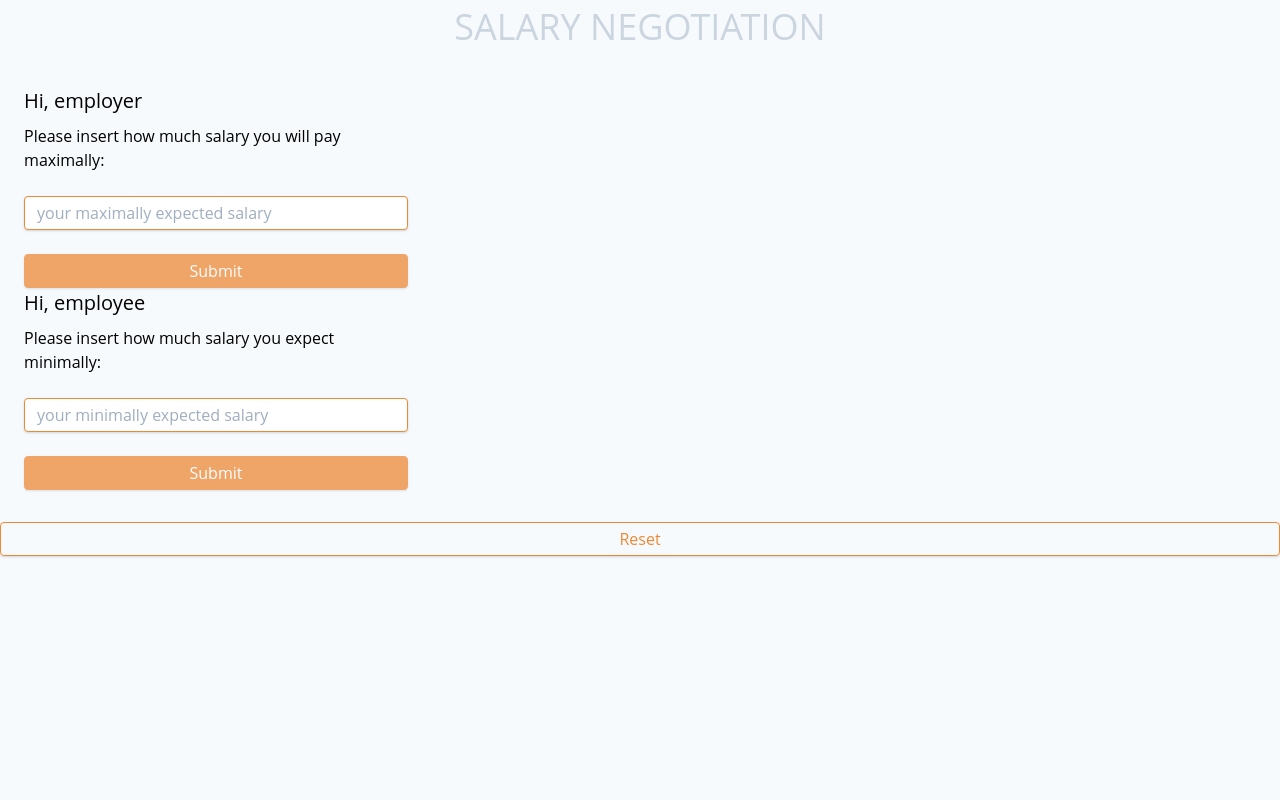
Scenario: SalaryNegotiation › Should show weather informations for london
The width and height of the screenshot is (1280, 800).
Type "900" into the number field with placeholder "your maximally expected salary" at point(216, 213), box 24,196 -> 408,230
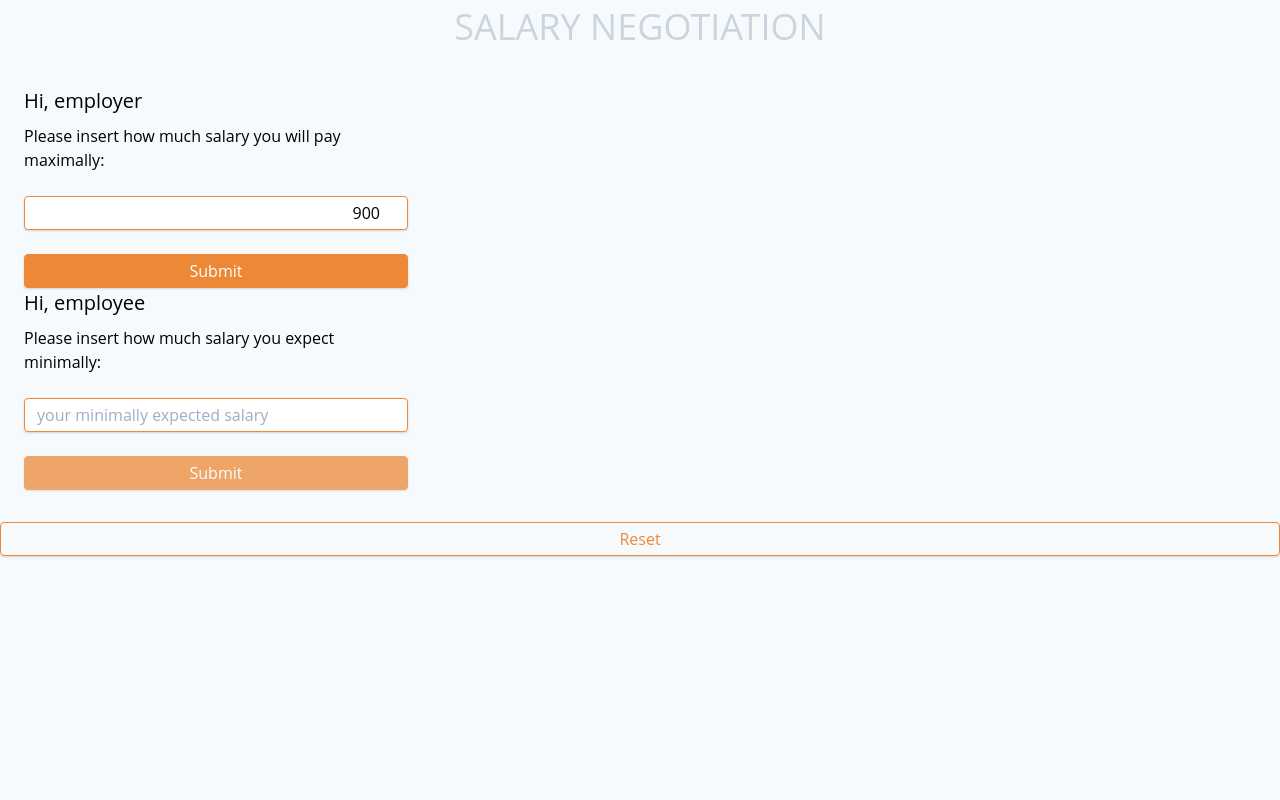
Click the button "Submit" below "Hi, employer" at point(216, 271), box 24,254 -> 408,288
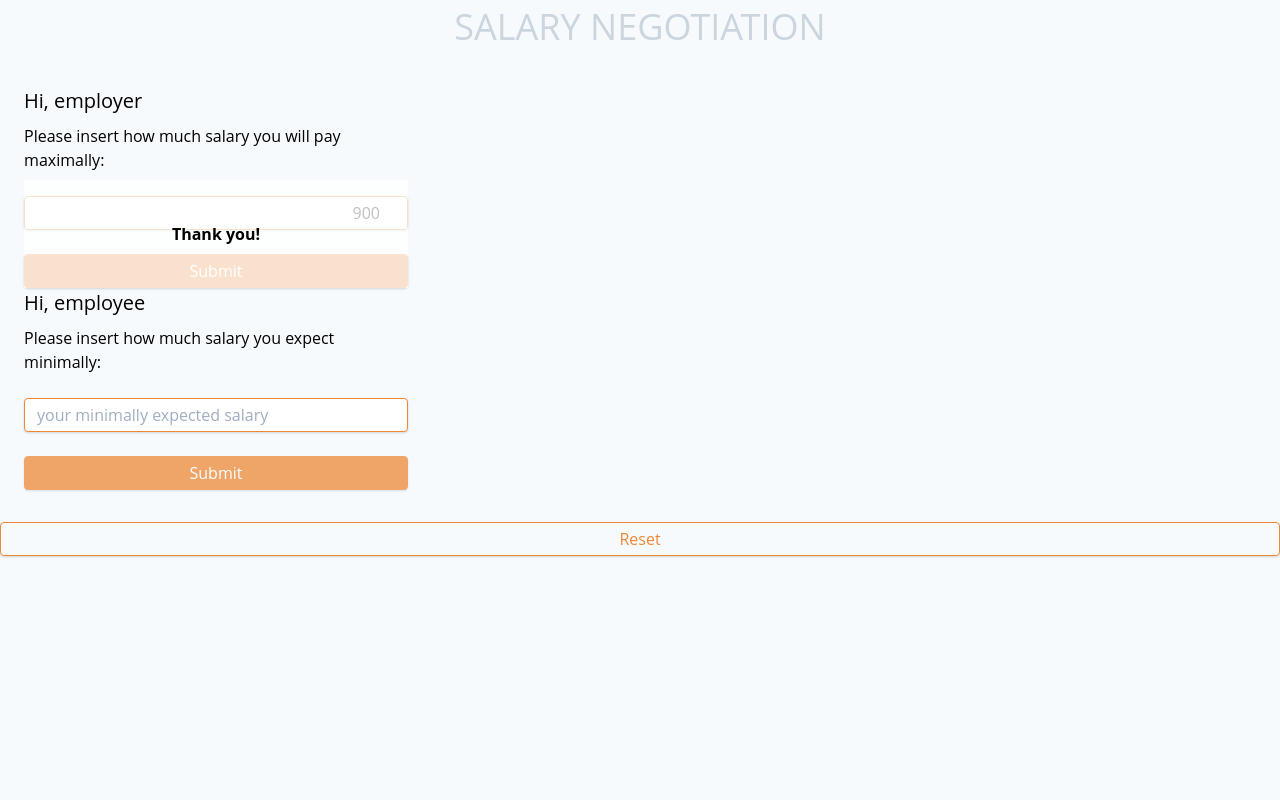
Type "910" into the number field with placeholder "your minimally expected salary" at point(216, 415), box 24,398 -> 408,432
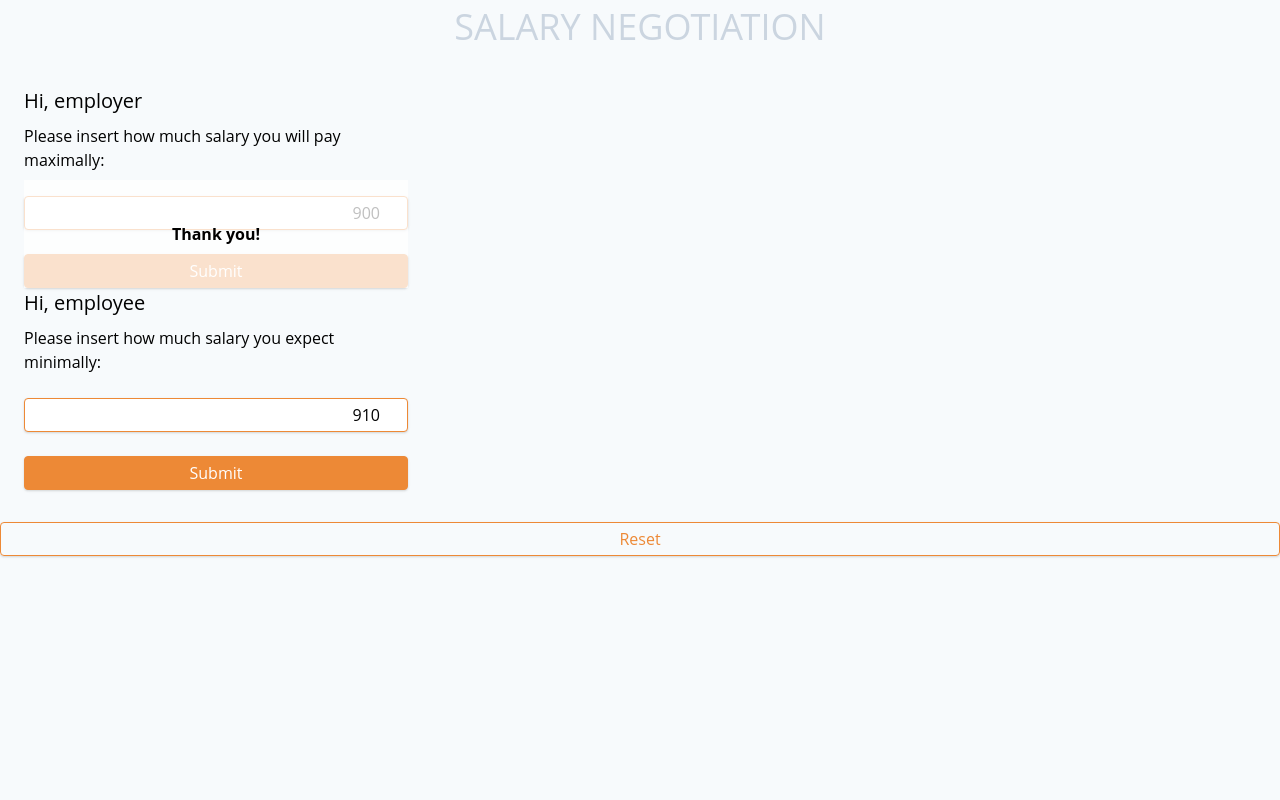
Click the button "Submit" below "Hi, employee" at point(216, 473), box 24,456 -> 408,490
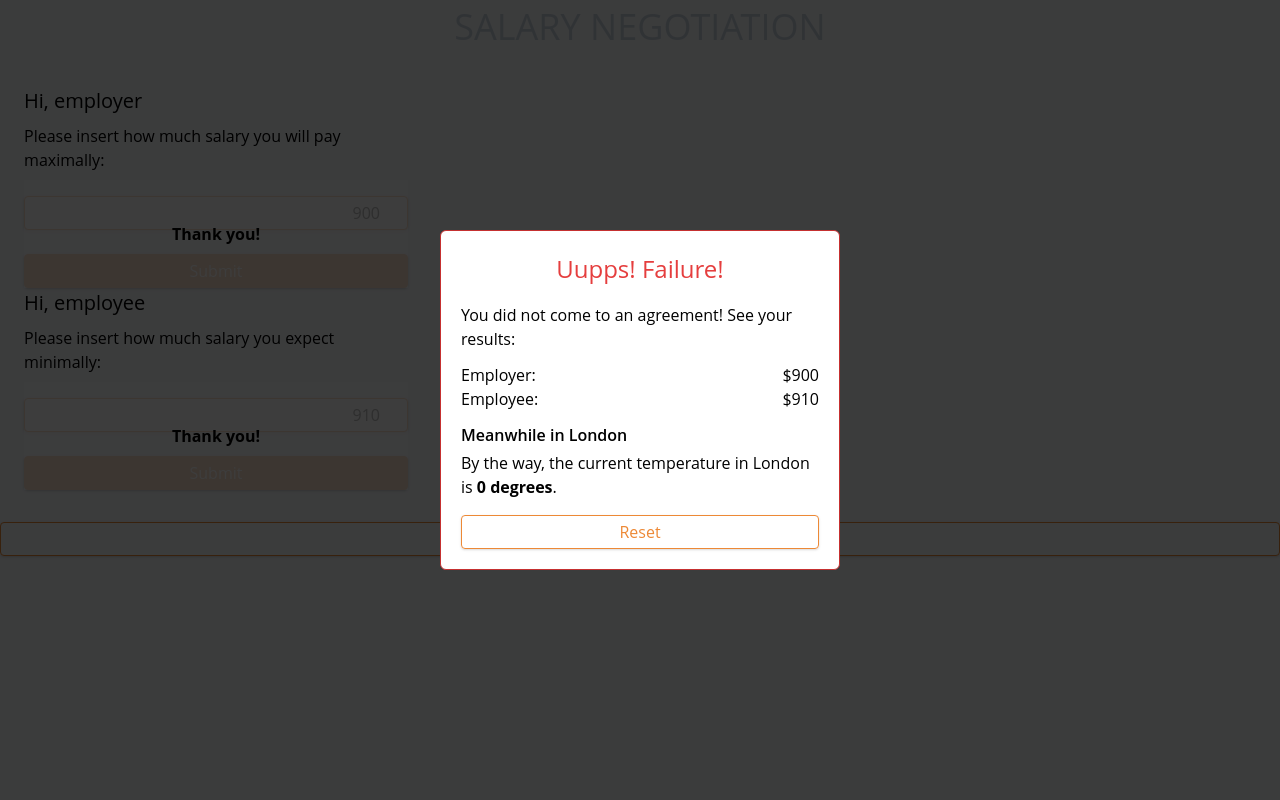
Expected: the element with class "message-box" shows "London is 0 degrees", 440,230 -> 840,570
